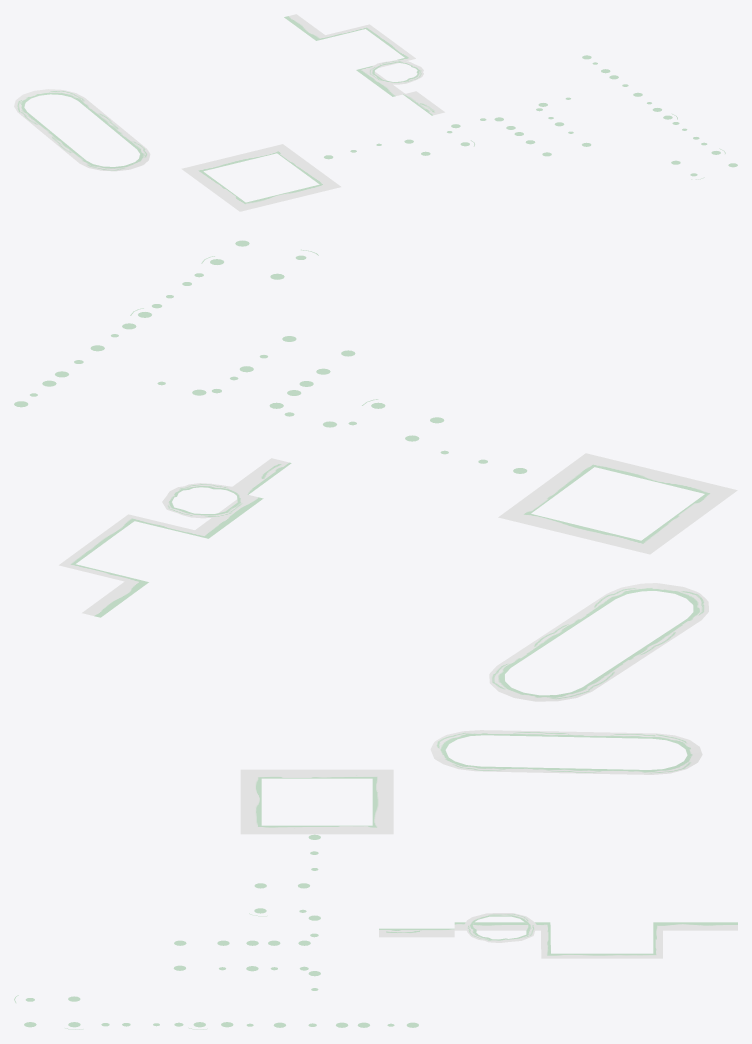
File: Mesh_Home_Port_Water.fbx
The picture shows the model from 3 angles, top to bottom: view 1: azimuth 30°, elevation 25°; view 2: azimuth 150°, elevation 25°; view 3: azimuth 270°, elevation 25°; orthographic projection. The views are drawn at different scales.
Visible parts, largest first — view 1: Mesh_Home_Port_Water; view 2: Mesh_Home_Port_Water; view 3: Mesh_Home_Port_Water.
Part boxes in pixels (box(x1,y1,x2,y2)): Mesh_Home_Port_Water: box(14, 14, 737, 211); Mesh_Home_Port_Water: box(14, 240, 737, 701); Mesh_Home_Port_Water: box(14, 730, 737, 1029).
Bounding box in the file's own units: 1322 × 20.63 × 1305.
Materials: 1 (1 with a texture image).
